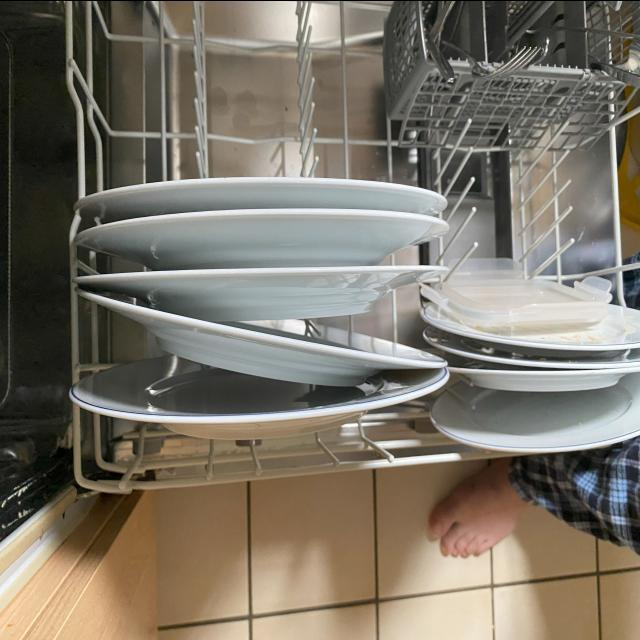clutery_bin: (412, 1, 632, 79)
empty_slot: (100, 0, 363, 151), (442, 119, 605, 274)
